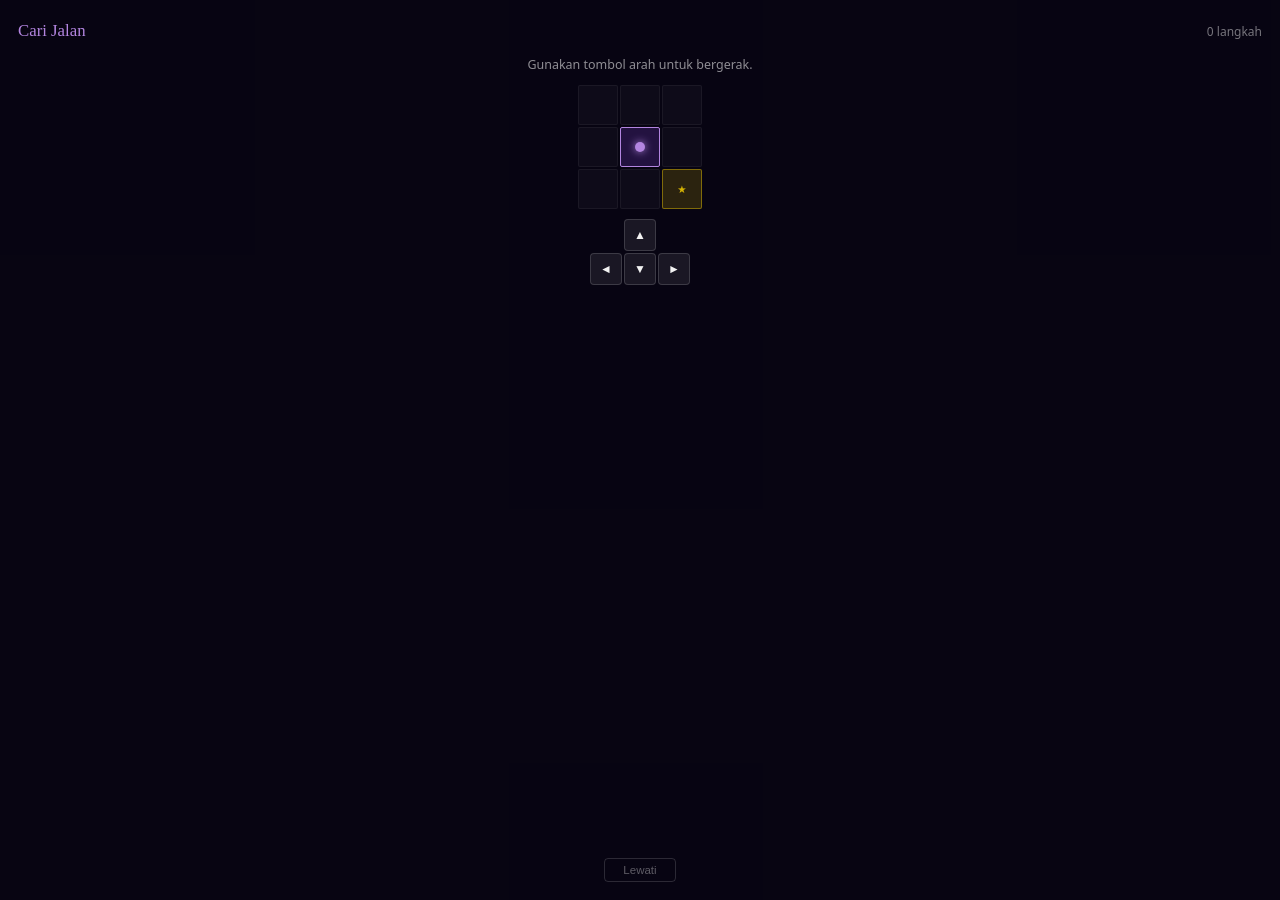
it: SliderPuzzle › increments step counter on move
Expected: the text "0 langkah" is shown, [1207,22,1262,41]
What coordinates should you click on to do the following:
click the button named "Kanan"
I would click on:
 (674, 269)
Its box is [658,253,690,285].
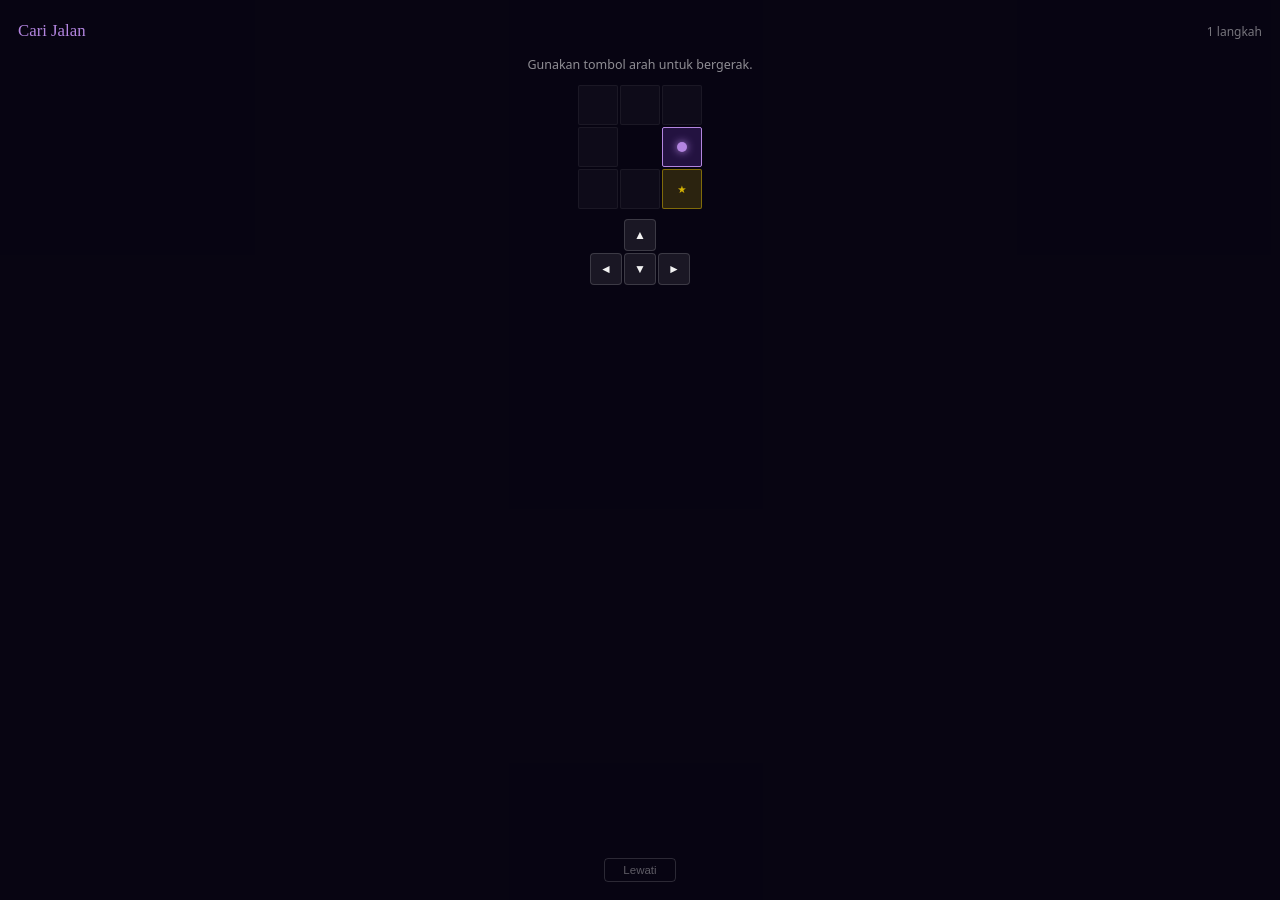
Now the text "1 langkah" is shown, box [1207,22,1262,41]
